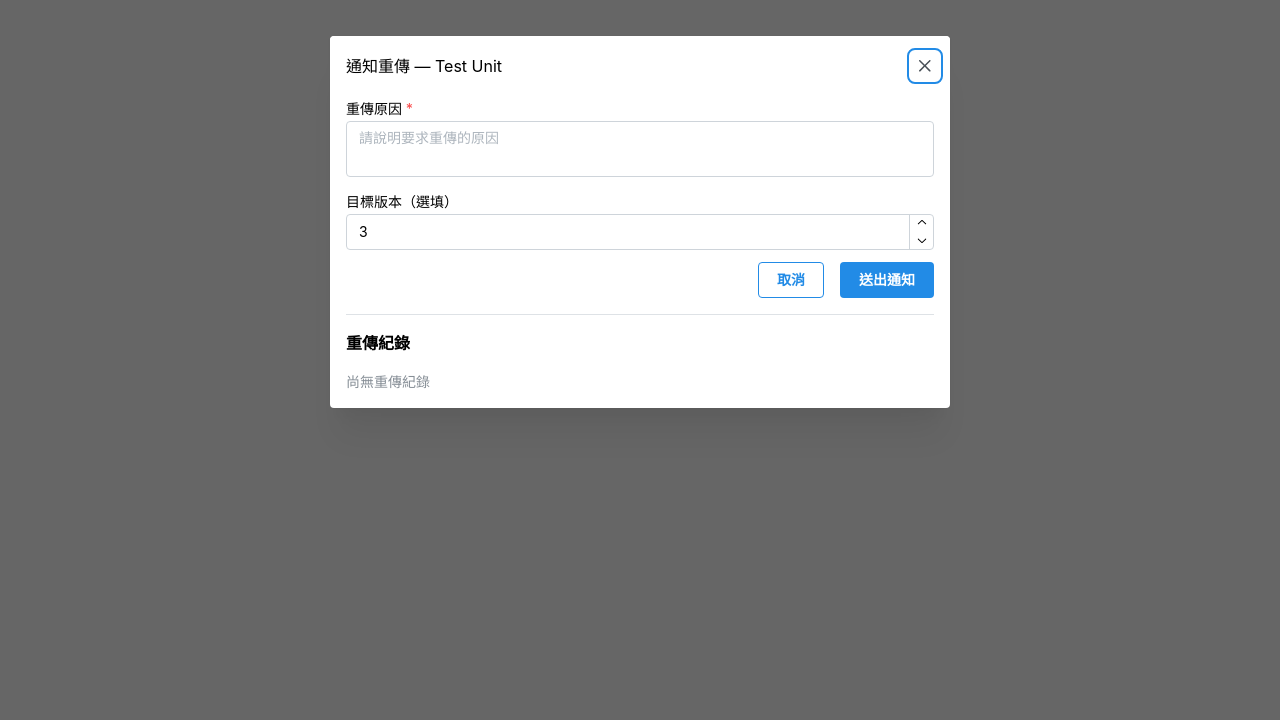
it: ResubmitModal › shows validation error when submitting empty reason
Expected: the button "送出通知" is shown, [859,271,915,288]
Submit without filling reason
Click the button "送出通知" at (887, 280), box [840,262,934,298]
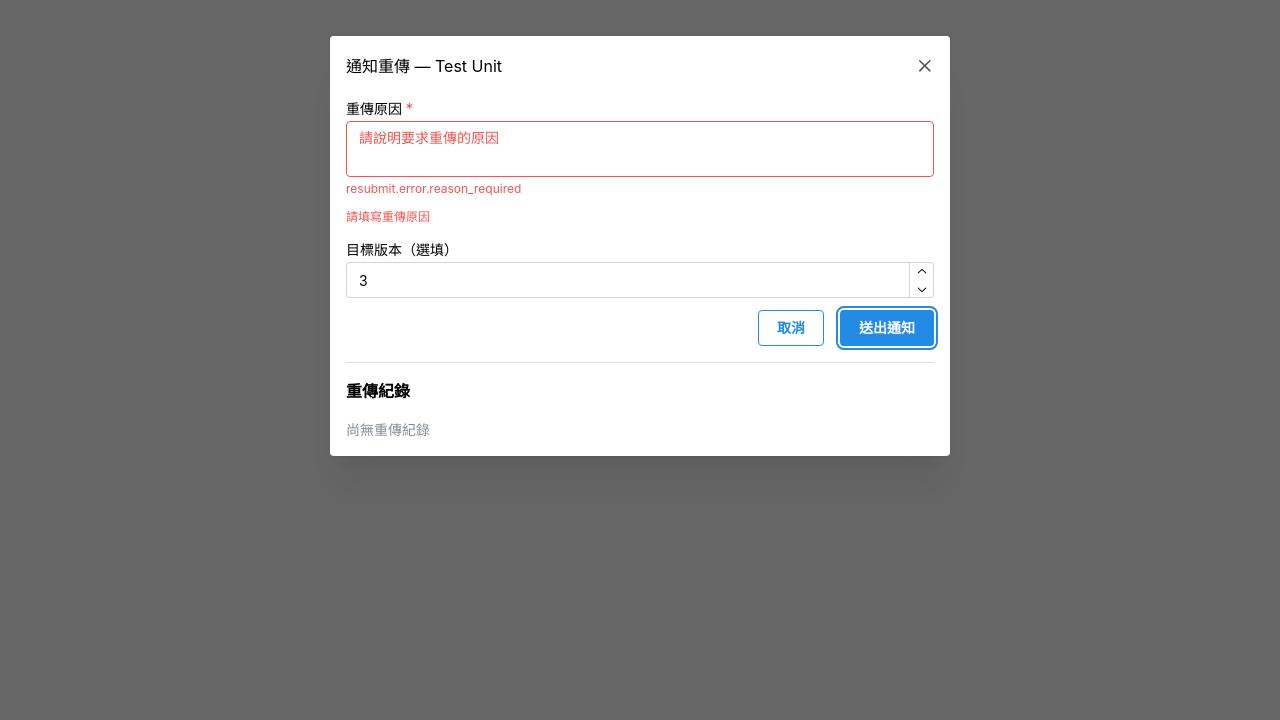
Now the text "請填寫重傳原因" is shown, box [346,209,430,224]
